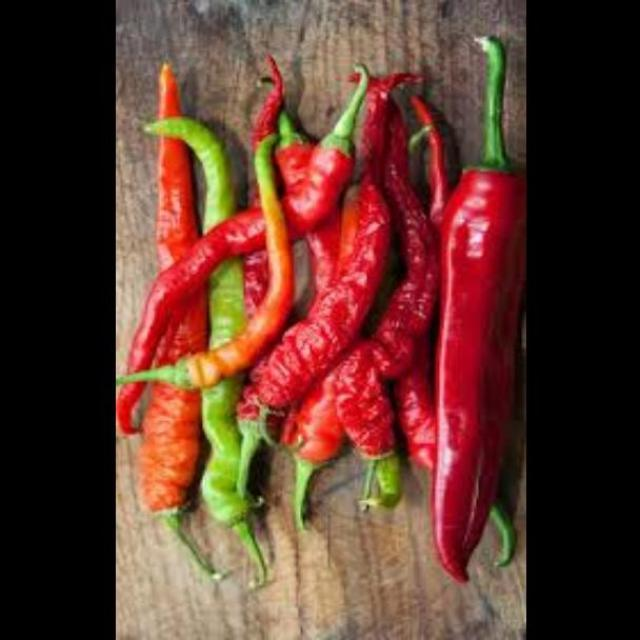hot pepper: (115, 89, 373, 385), (230, 131, 383, 444), (151, 104, 257, 550), (158, 136, 320, 398), (341, 87, 440, 484), (427, 168, 514, 594), (120, 92, 189, 518)
